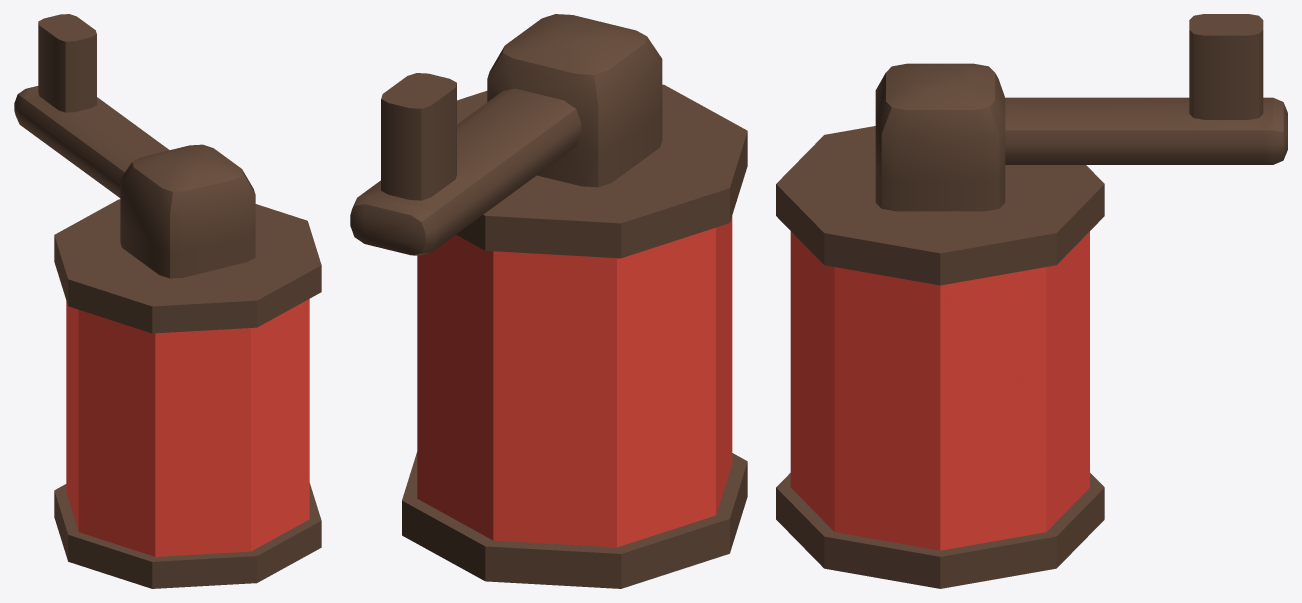
The model's file is reel.fbx.
The picture shows the model from 3 angles, left to right: view 1: azimuth 30°, elevation 25°; view 2: azimuth 150°, elevation 25°; view 3: azimuth 270°, elevation 25°; orthographic projection. The views are drawn at different scales.
Parts seen in each view (by area): view 1: Cylinder; view 2: Cylinder; view 3: Cylinder.
Part boxes in pixels (<box>): Cylinder: <box>14,14,321,588</box>; Cylinder: <box>350,14,747,588</box>; Cylinder: <box>776,14,1287,588</box>.
Bounding box in the file's own units: 30.24 × 50.23 × 47.08.
